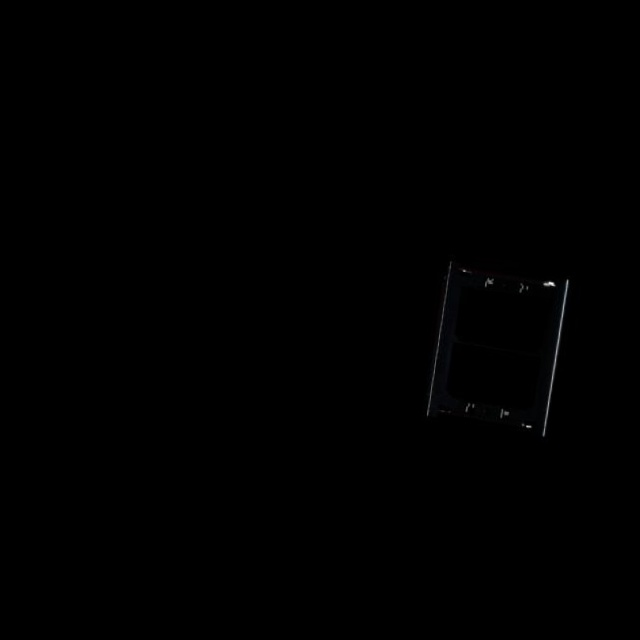medium_debris: (419, 251, 579, 443)
